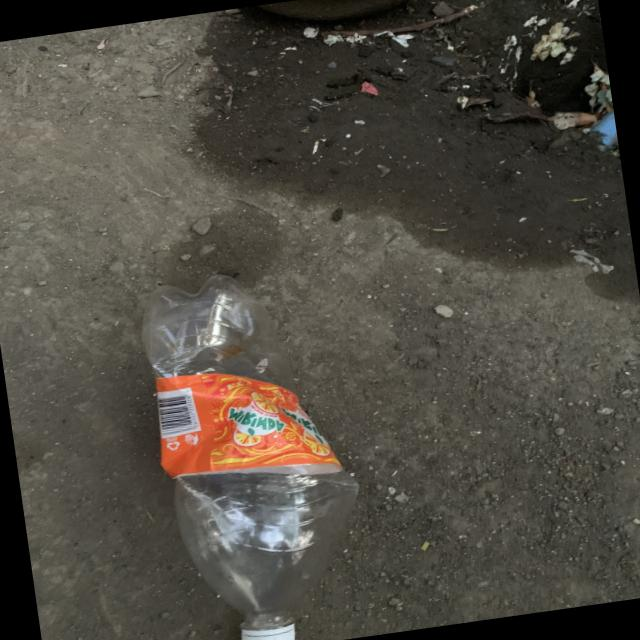Bottle: (143, 275, 358, 640)
